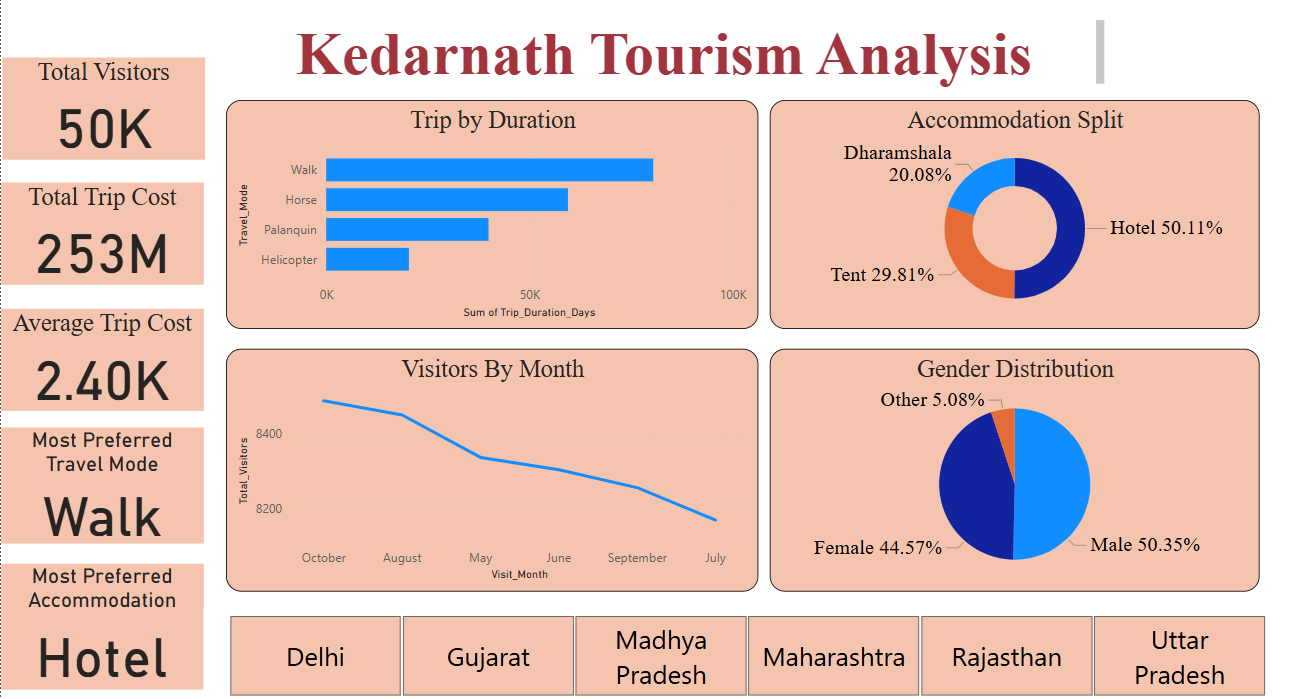

What the dashboard file says about the page in this screenshot:
{"tool":"powerbi","page":{"name":"Page 1","canvas":[1280,720],"ordinal":0},"visuals":[{"type":"card","title":"Total Visitors","fields":{"Values":["Kedarnath_Tourism_Data_50000.Total_Visitors"]},"box":[1.5,66,198,99.8],"z":0},{"type":"card","title":"Most Preferred Accommodation","fields":{"Values":["Kedarnath_Tourism_Data_50000.Most_Preferred_Accommodation"]},"box":[0,561.9,198,122.8],"z":1000},{"type":"card","title":"Total Trip Cost","fields":{"Values":["Sum(Kedarnath_Tourism_Data_50000.Total_Trip_Cost)"]},"box":[0,188.8,198,99.8],"z":2000},{"type":"card","title":"Average Trip Cost","fields":{"Values":["Kedarnath_Tourism_Data_50000.Avg_Trip_Cost"]},"box":[0,311.6,198,99.8],"z":3000},{"type":"card","title":"Most Preferred Travel Mode ","fields":{"Values":["Kedarnath_Tourism_Data_50000.Most_Preferred_Travel_Mode"]},"box":[0,428.3,198,113.6],"z":4000},{"type":"barChart","title":"Trip by Duration","fields":{"Y":["Sum(Kedarnath_Tourism_Data_50000.Trip_Duration_Days)"],"Category":["Kedarnath_Tourism_Data_50000.Travel_Mode"]},"box":[219.5,107.5,520.4,224.1],"z":5000},{"type":"donutChart","title":"Accommodation Split ","fields":{"Y":["CountNonNull(Kedarnath_Tourism_Data_50000.Accommodation_Type)"],"Category":["Kedarnath_Tourism_Data_50000.Accommodation_Type"]},"box":[752.2,107.5,479,224.1],"z":6000},{"type":"slicer","fields":{"Values":["Kedarnath_Tourism_Data_50000.State_of_Origin"]},"box":[198,604.8,1062.3,92.1],"z":7000},{"type":"lineChart","title":"Visitors By Month","fields":{"Y":["Kedarnath_Tourism_Data_50000.Total_Visitors"],"Category":["Kedarnath_Tourism_Data_50000.Visit_Month"]},"box":[219.5,351.5,520.4,237.9],"z":8000},{"type":"pieChart","title":"Gender Distribution","fields":{"Y":["CountNonNull(Kedarnath_Tourism_Data_50000.Gender)"],"Category":["Kedarnath_Tourism_Data_50000.Gender"]},"box":[752.2,351.5,479,237.9],"z":9000},{"type":"textbox","box":[219.5,24.6,864.3,82.9],"z":9001}]}

Visuals, with their boxes on the page's 1280x720 design canvas (x1, y1, x2, y2). These are canvas units, not pixel positions in the 1297x699 screenshot, which may show the page scaled, cropped or inside an application window:
"Total Visitors" card: 2, 66, 200, 166
"Most Preferred Accommodation" card: 0, 562, 198, 685
"Total Trip Cost" card: 0, 189, 198, 289
"Average Trip Cost" card: 0, 312, 198, 411
"Most Preferred Travel Mode " card: 0, 428, 198, 542
"Trip by Duration" barChart: 220, 108, 740, 332
"Accommodation Split " donutChart: 752, 108, 1231, 332
slicer - Kedarnath_Tourism_Data_50000.State_of_Origin: 198, 605, 1260, 697
"Visitors By Month" lineChart: 220, 352, 740, 589
"Gender Distribution" pieChart: 752, 352, 1231, 589
textbox: 220, 25, 1084, 108
